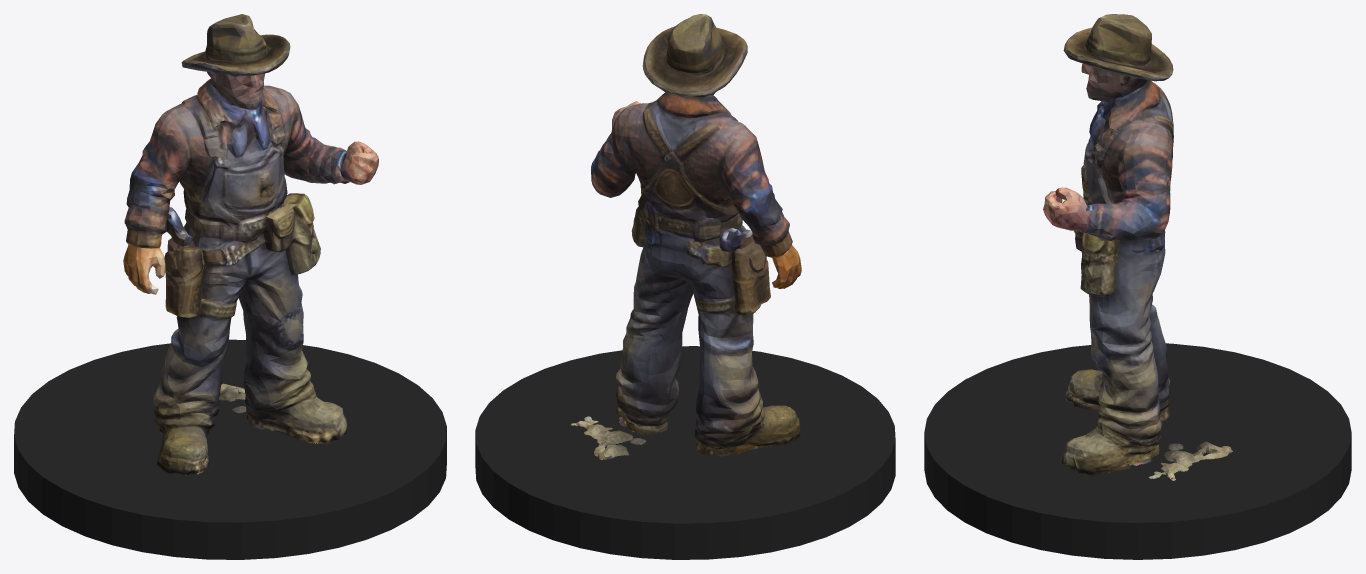
File: settler.glb
3 views of the same model, side by side, from view 1: azimuth 30°, elevation 25°; view 2: azimuth 150°, elevation 25°; view 3: azimuth 270°, elevation 25° (orthographic). The views are drawn at different scales.
Visible parts, largest first — view 1: base, figure; view 2: base, figure; view 3: base, figure.
Part boxes in pixels (<box>): base: <box>14,339,446,559</box>; figure: <box>123,14,378,475</box>; base: <box>475,346,895,559</box>; figure: <box>571,14,801,459</box>; base: <box>924,343,1351,559</box>; figure: <box>1043,14,1232,480</box>.
Size of the model in its own units: 1.26 by 1.47 by 1.26.
Materials: 2 (1 with a texture image).
